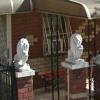Statue: (9, 28, 36, 81)
